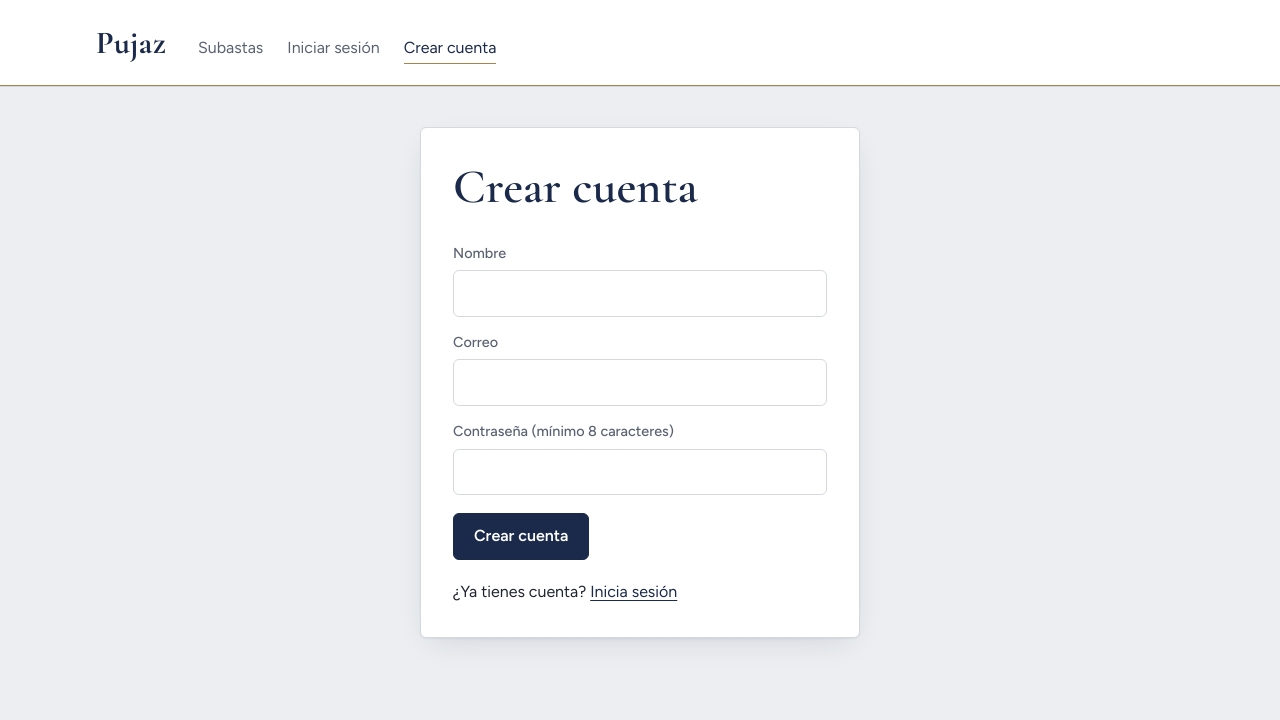
Test case: RegistroPage › no envía una contraseña de menos de 8 caracteres
The image size is (1280, 720).
In the field labelled "Nombre": [640, 294] box [453,270,827,317], type "Ana Gómez"
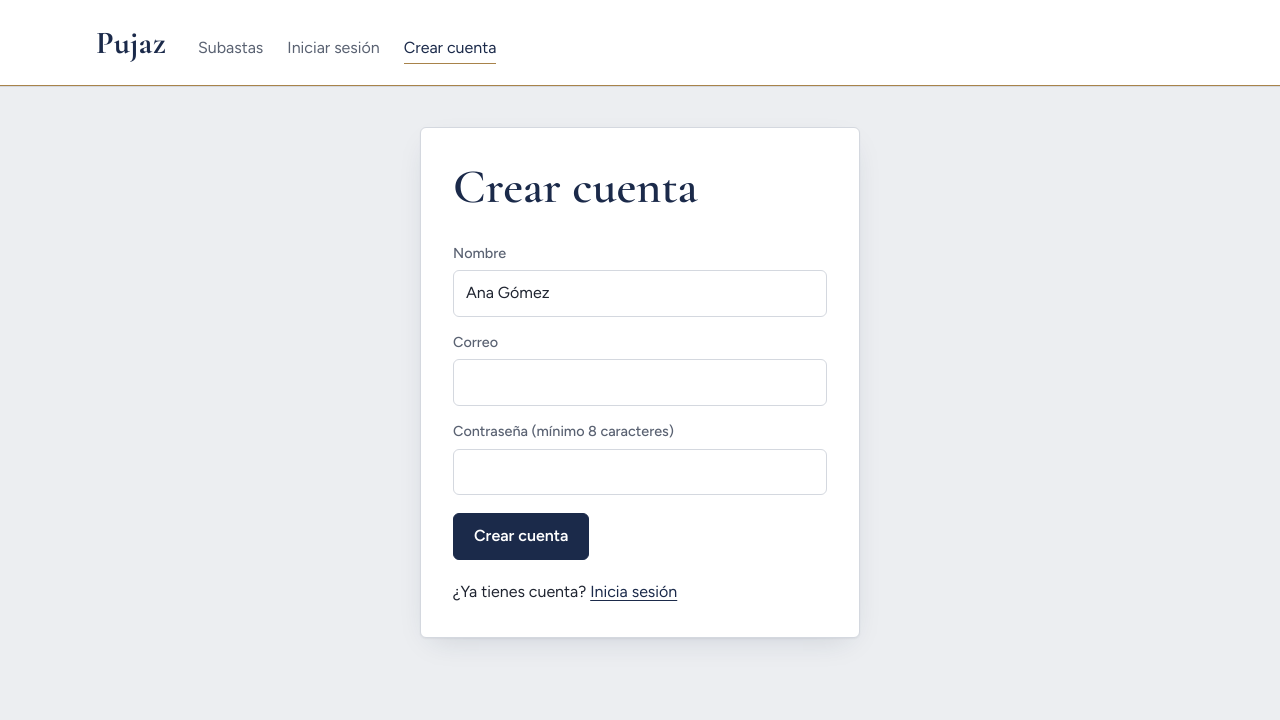
In the field labelled "Correo": [640, 383] box [453,359,827,406], type "ana@correo.com"
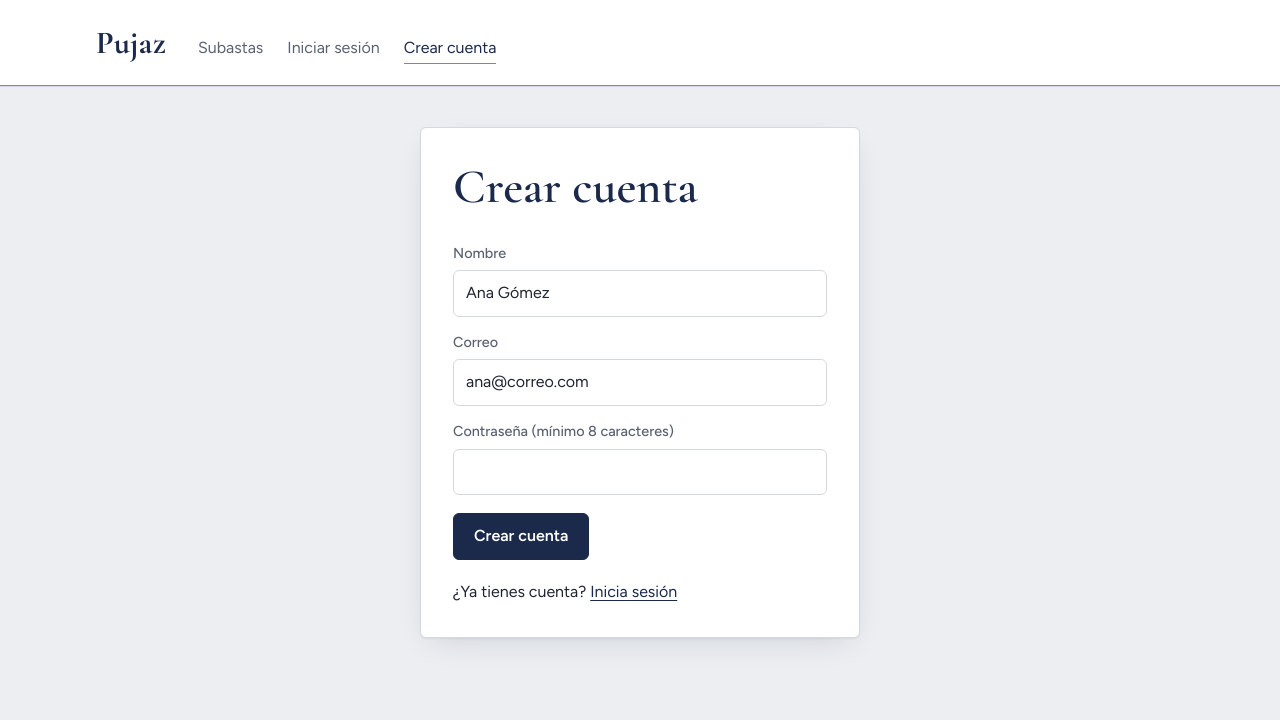
In the password field labelled "Contraseña (mínimo 8 caracteres)": [640, 472] box [453,448,827,495], type "corta"
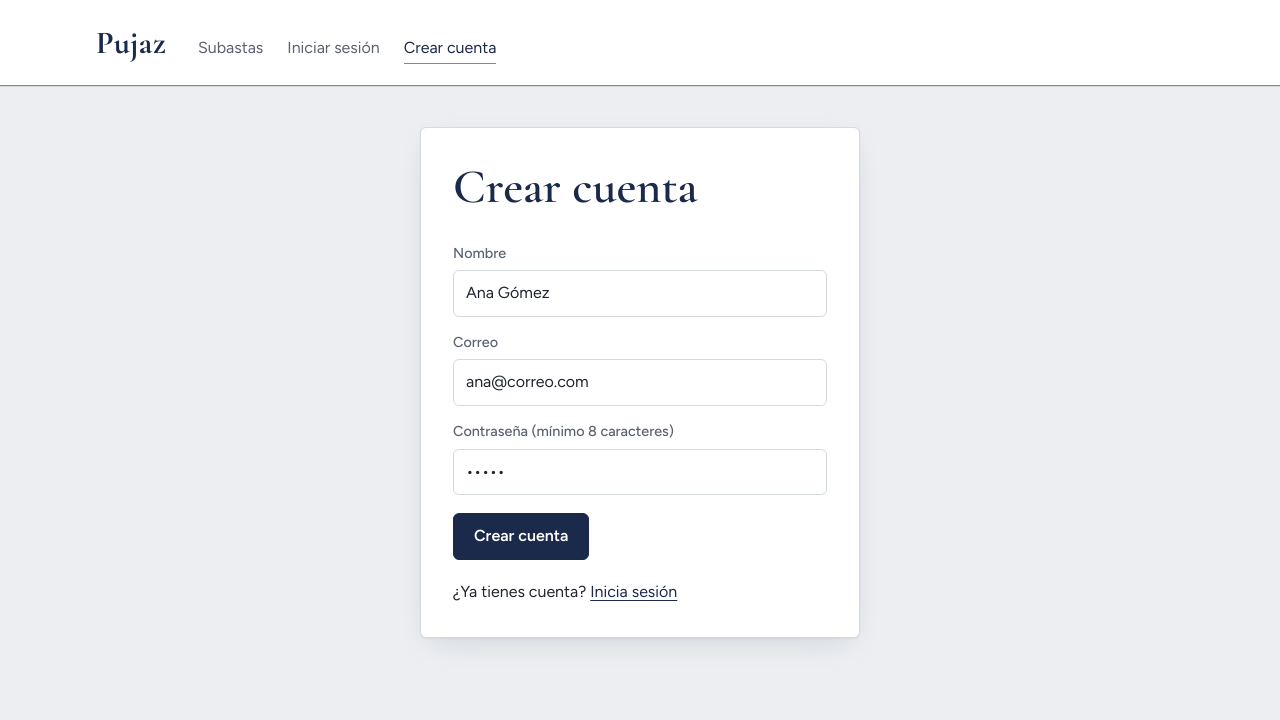
Click the button "Crear cuenta": [521, 537] box [453,513,589,560]
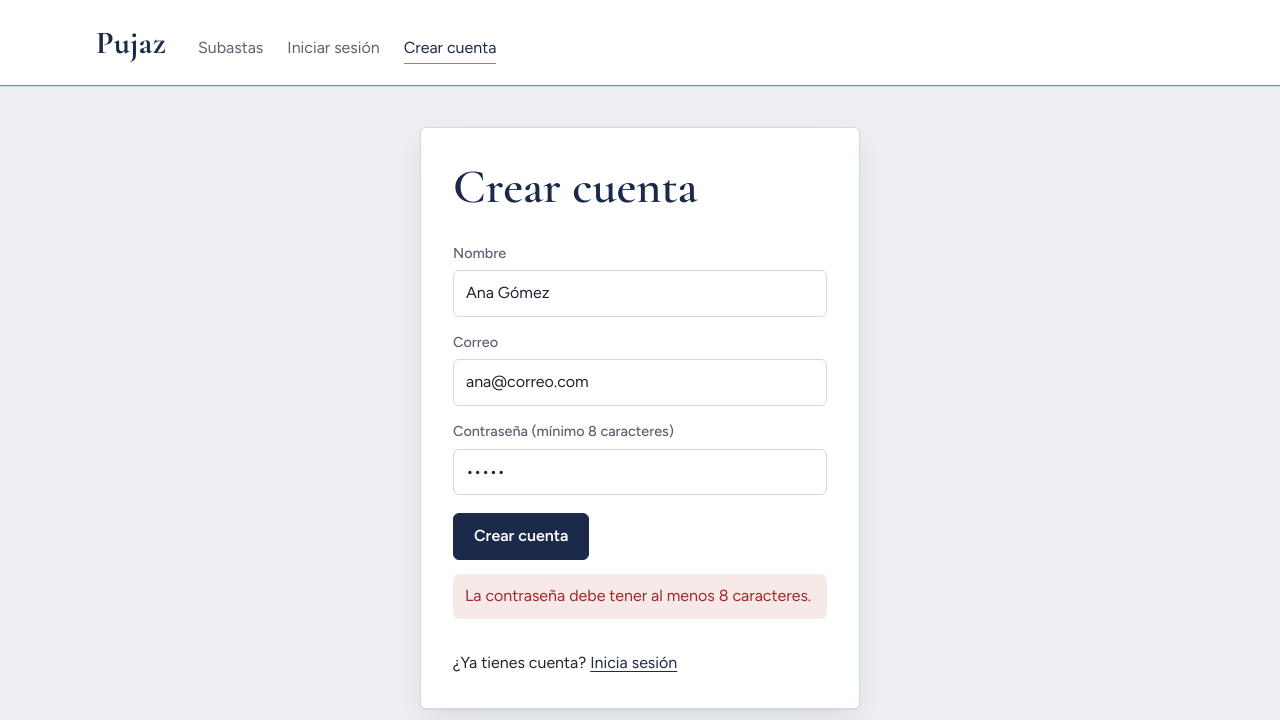
Now the message shows "al menos 8 caracteres", box [465,586,811,605]
